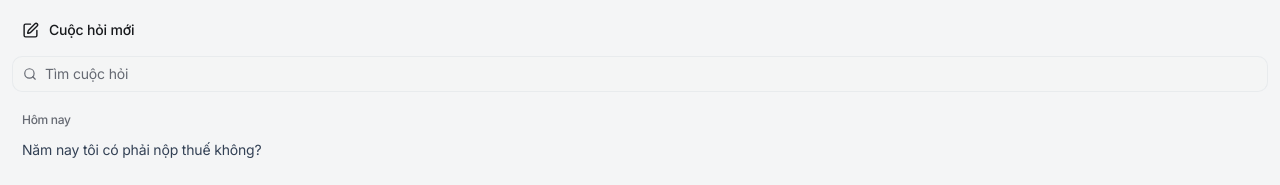
it: danh sách lịch sử › bấm một cuộc: đọc lại từ máy chủ và mở trong khung trợ lý, không hỏi lại
Click the button "Năm nay tôi có phải nộp thuế không?" at (142, 150), box [12,132,1258,168]
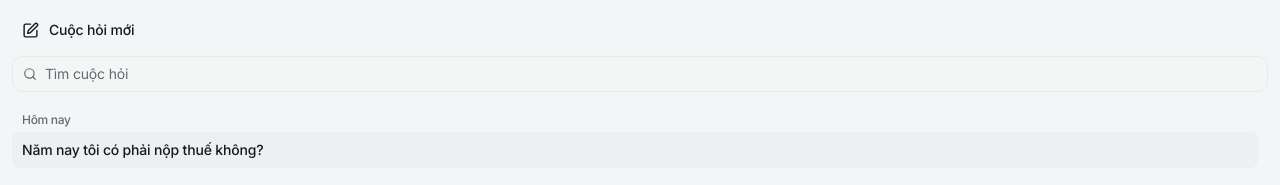
Expected: the button "Năm nay tôi có phải nộp thuế không?" is marked as current, [12,132,1258,168]
